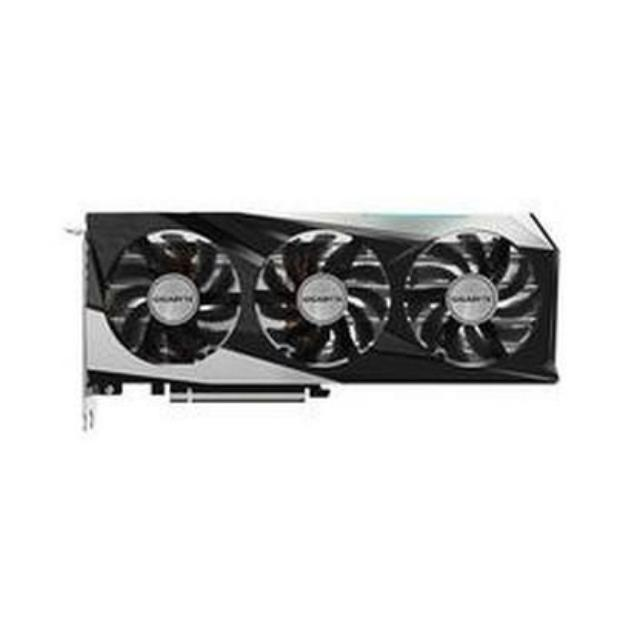GPU: (67, 200, 570, 417)
